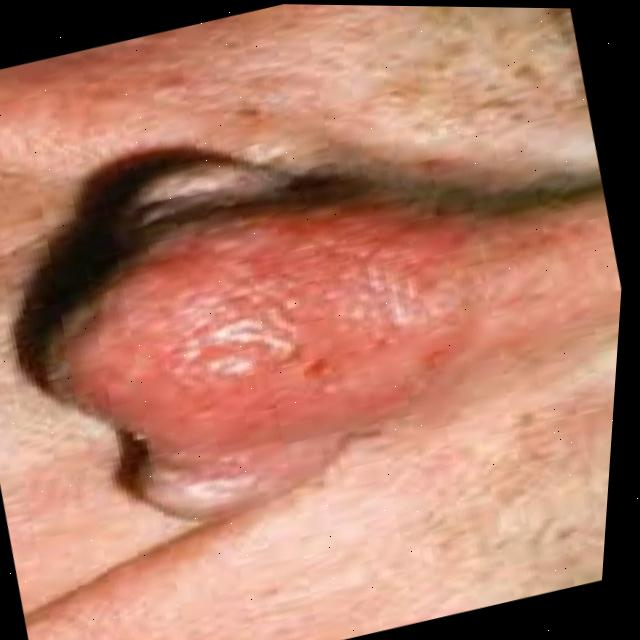Rosacea: (125, 171, 512, 451)
